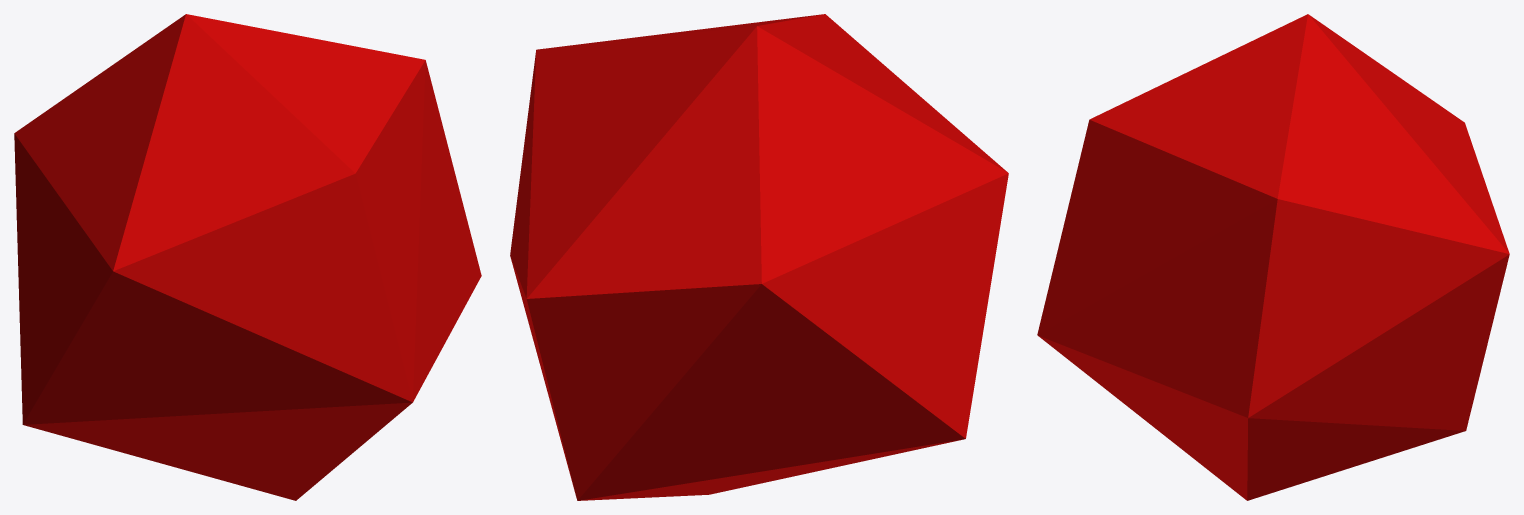
Rendered from AppleFallen.fbx.
3 views of the same model, side by side, from view 1: azimuth 30°, elevation 25°; view 2: azimuth 150°, elevation 25°; view 3: azimuth 270°, elevation 25° (orthographic). The views are drawn at different scales.
Visible parts, largest first — view 1: AppleFallen; view 2: AppleFallen; view 3: AppleFallen.
Boxes of the visible parts, bbox=[...] form: AppleFallen: bbox=[14, 14, 481, 500]; AppleFallen: bbox=[510, 14, 1008, 500]; AppleFallen: bbox=[1037, 14, 1509, 500].
Size of the model in its own units: 0.1739 by 0.1808 by 0.1715.
